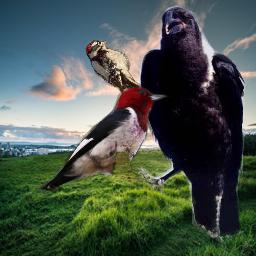Crow: (138, 5, 246, 243)
Woodpecker: (33, 85, 171, 191), (85, 39, 141, 97)
